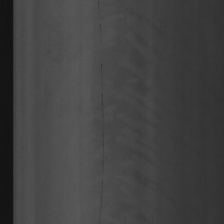inclusion: (91, 4, 109, 218)
